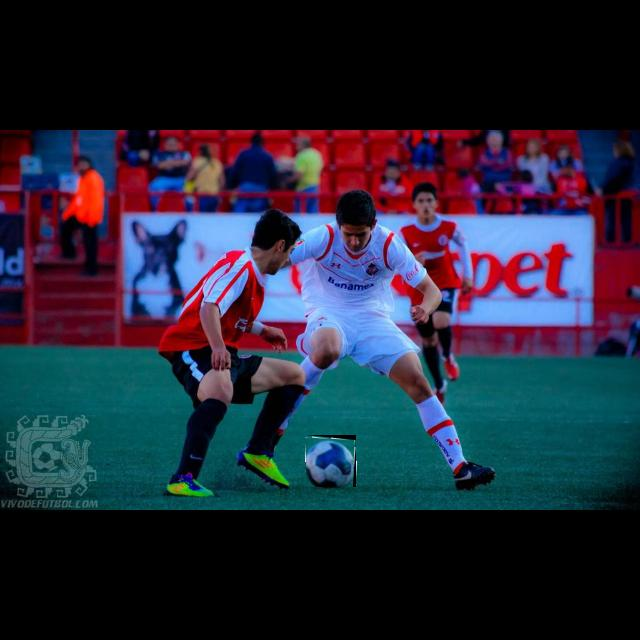Football: (306, 435, 356, 487)
